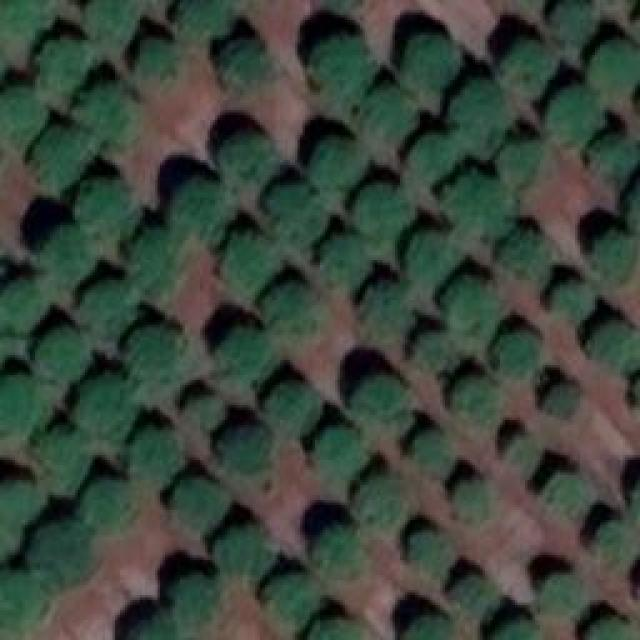Tree: (450, 83, 510, 158), (445, 175, 518, 235), (312, 38, 370, 113), (78, 380, 133, 450), (30, 525, 93, 583), (77, 88, 135, 151), (173, 183, 233, 243), (353, 185, 416, 240), (270, 185, 325, 248), (220, 233, 275, 296), (545, 87, 603, 145), (33, 128, 88, 188), (358, 90, 418, 145), (353, 378, 413, 433), (77, 183, 135, 238), (38, 430, 91, 490), (500, 40, 555, 93), (408, 230, 458, 288), (363, 282, 413, 340), (262, 285, 320, 335), (220, 135, 278, 185), (218, 327, 268, 385), (213, 530, 273, 578), (133, 230, 178, 293), (405, 35, 458, 88), (447, 282, 495, 340), (130, 430, 180, 485), (38, 328, 88, 381), (323, 238, 373, 291), (265, 578, 318, 628), (0, 377, 42, 440), (42, 230, 90, 285), (502, 230, 550, 285), (317, 430, 365, 485), (407, 138, 465, 183), (355, 478, 403, 531), (173, 483, 223, 533), (40, 40, 90, 90), (543, 473, 593, 523), (170, 578, 218, 628), (130, 330, 180, 378), (85, 285, 135, 333), (590, 40, 640, 88), (315, 528, 363, 578), (83, 480, 128, 533), (313, 140, 366, 185), (265, 385, 318, 430), (215, 428, 270, 471), (0, 90, 42, 145), (587, 134, 640, 177), (590, 323, 640, 368), (0, 283, 48, 328), (0, 575, 42, 625), (453, 380, 496, 428), (452, 575, 500, 618), (85, 0, 138, 38), (0, 480, 45, 523), (223, 40, 266, 85), (410, 533, 453, 578), (595, 230, 633, 280), (0, 0, 48, 38), (177, 0, 225, 38), (552, 0, 595, 42), (498, 333, 538, 376), (595, 523, 635, 566), (540, 575, 585, 613), (415, 335, 458, 373), (500, 140, 540, 180), (415, 430, 450, 473), (553, 285, 593, 320), (125, 620, 183, 640), (307, 620, 365, 640), (138, 43, 173, 76), (458, 483, 491, 518), (508, 437, 538, 475), (183, 397, 223, 425), (545, 385, 578, 418), (405, 620, 453, 640), (588, 620, 631, 640), (495, 622, 538, 640)
